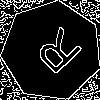R: (26, 26, 85, 84)
